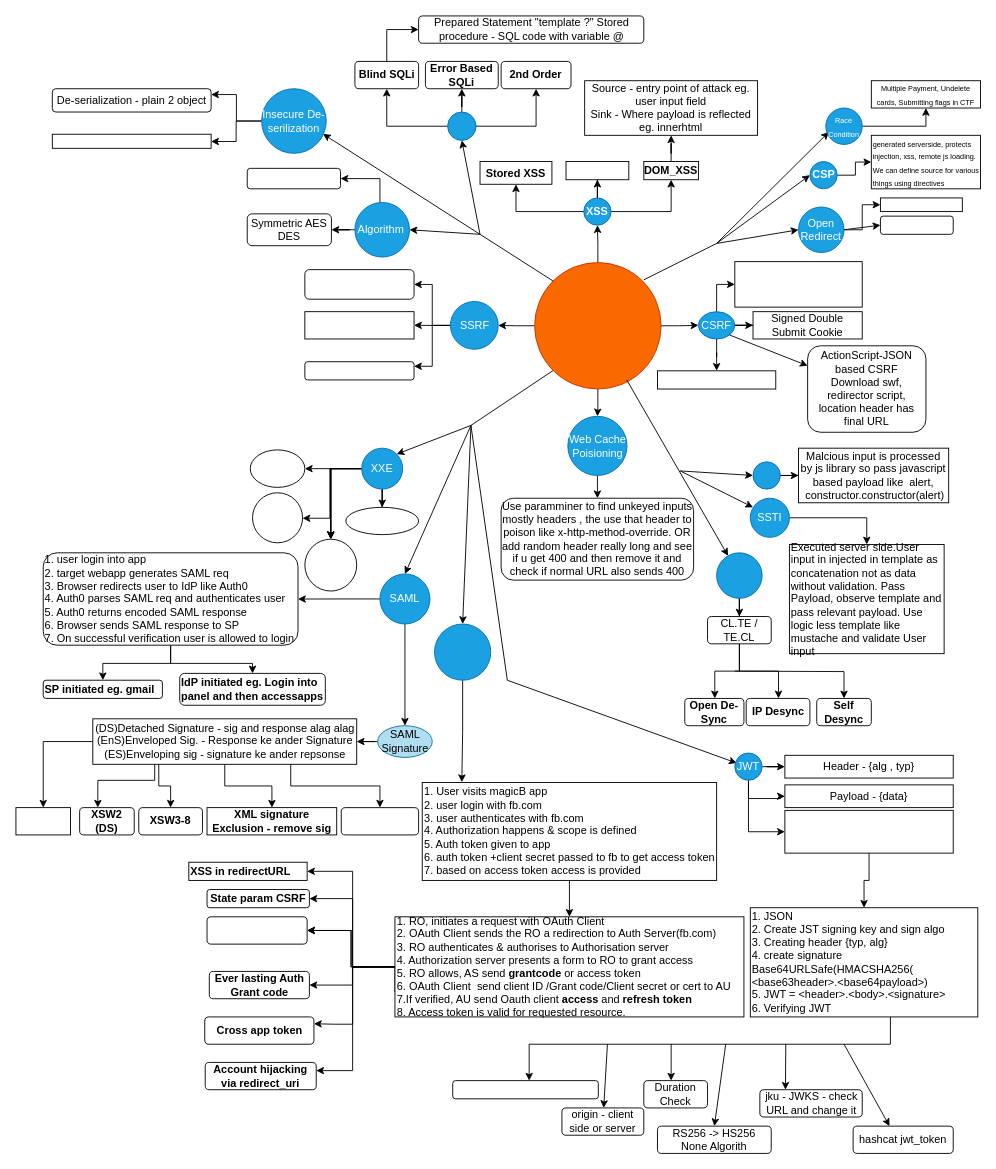
Some shapes in this 996 by 1169 pixel diagram are drawn without their labels. The box of each missing label's shape, as (x1, y1, x2, y2) in pixels:
Access token in Browser: (206, 916, 307, 944)
Asymmetric RSA ECC: (246, 167, 341, 189)
Blind SSRF: (304, 361, 414, 380)
Certificate Faking: (340, 807, 419, 835)
CSTI: (752, 461, 780, 489)
Double Submit Cookie(MITM & Sub-domain takeover issues): (734, 261, 862, 307)
Header Based: (880, 197, 962, 212)
HTTP De-Sync Attack: (716, 552, 762, 598)
JS Based: (880, 215, 953, 234)
OAuth: (434, 623, 491, 680)
open redirection used as bypass: (304, 311, 414, 339)
R-XSS: (565, 161, 629, 180)
read sensitive file: (249, 449, 305, 487)
Ruby _method overirde: (657, 370, 776, 389)
Serialization - object 2 plaintext: (51, 133, 211, 148)
Signature - Base64URLSafe(HMACSHA256): (784, 809, 953, 853)
SQLi: (447, 111, 476, 140)
SSRF based XXE: (252, 492, 303, 543)
SSRF via referrer headers: (304, 269, 414, 299)
Token Signature Verification?: (452, 1080, 598, 1099)
Vulnerability MindMap: (534, 262, 661, 389)
XInclude Attack: (304, 538, 357, 591)
XML Bomb: (345, 506, 419, 535)
XSW1 (ES): (15, 807, 71, 835)
